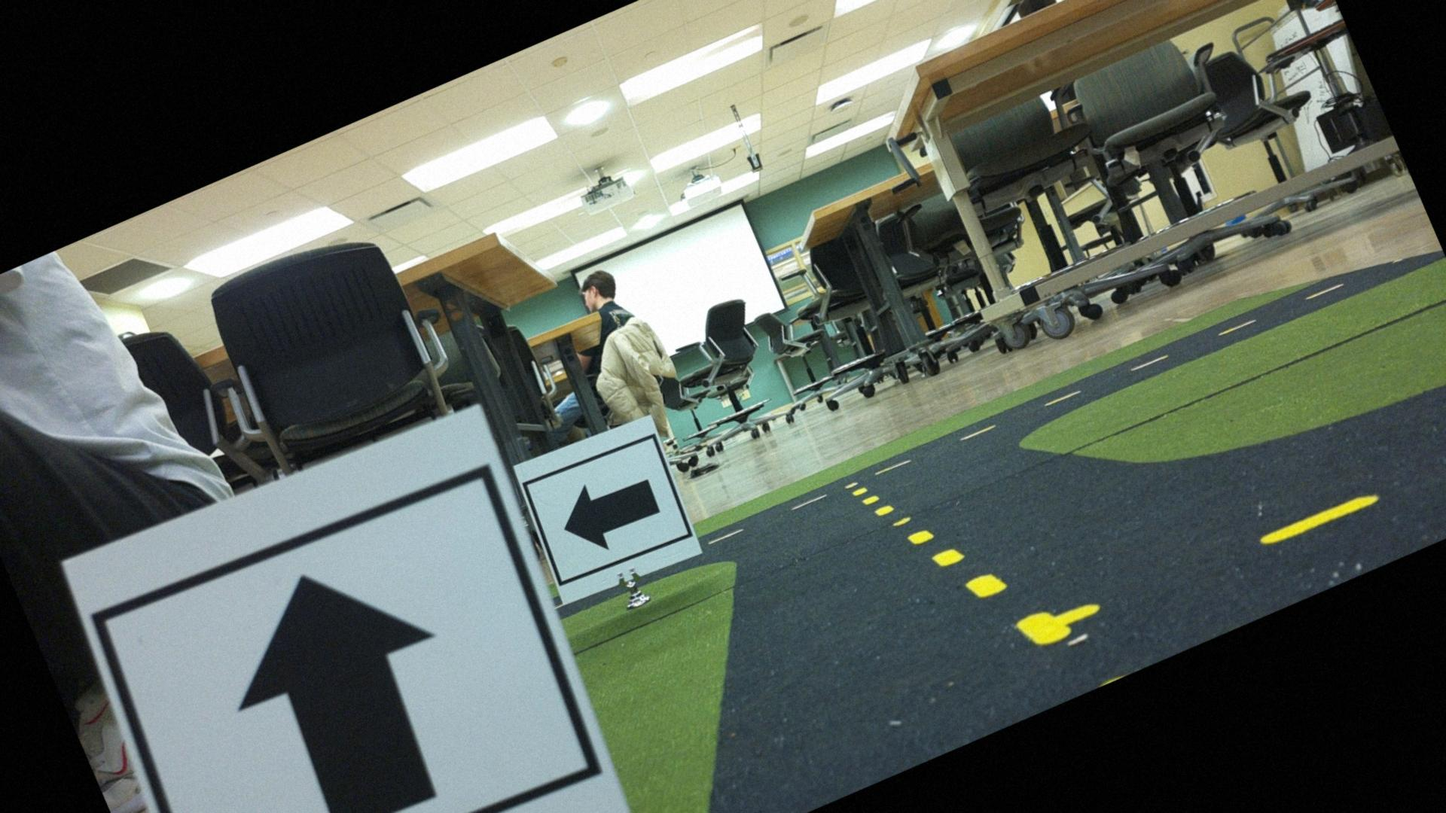gostraight: (57, 403, 618, 812)
yellowline: (846, 428, 1066, 690)
